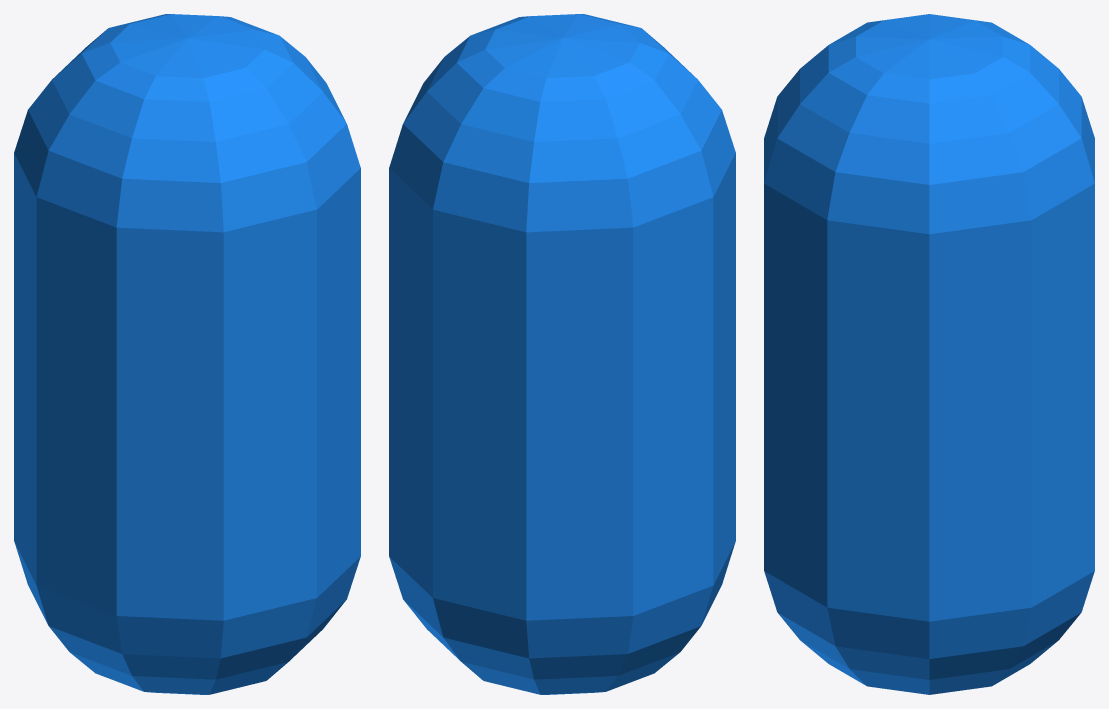
The model's file is Proto_Block_Capsule_01.fbx.
3 views of the same model, side by side, from view 1: azimuth 30°, elevation 25°; view 2: azimuth 150°, elevation 25°; view 3: azimuth 270°, elevation 25° (orthographic).
Visible parts, largest first — view 1: Proto_Block_Capsule_01; view 2: Proto_Block_Capsule_01; view 3: Proto_Block_Capsule_01.
Boxes of the visible parts, x1,y1,x2,y2 form: Proto_Block_Capsule_01: (14, 14, 360, 694); Proto_Block_Capsule_01: (389, 14, 735, 694); Proto_Block_Capsule_01: (764, 14, 1094, 694).
Size of the model in its own units: 0.75 by 1.5 by 0.7133.
